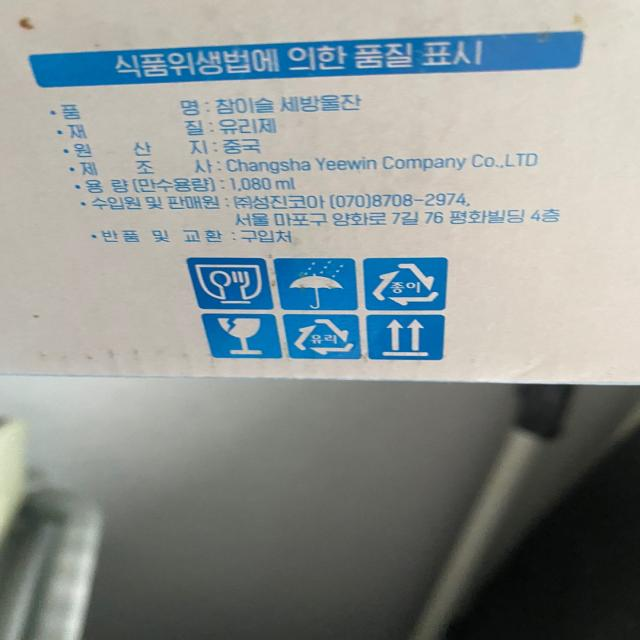Glass: (289, 316, 358, 358)
Paper: (371, 261, 444, 308)
